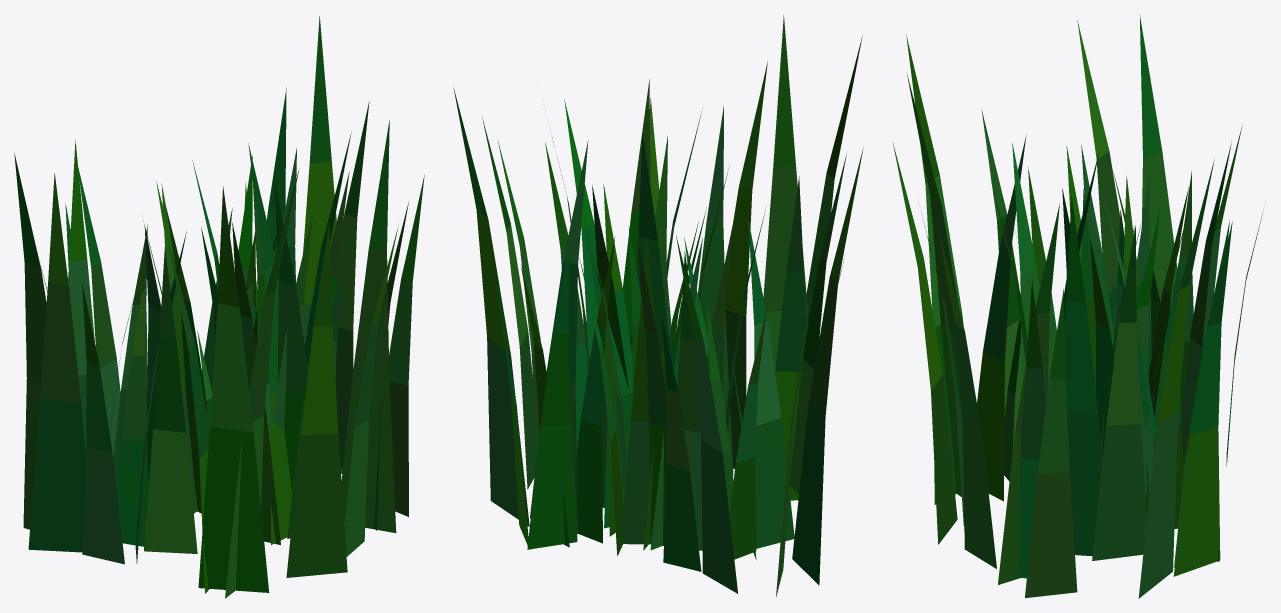
The model's file is GrassPatch01.glb.
The picture shows the model from 3 angles, left to right: view 1: azimuth 30°, elevation 25°; view 2: azimuth 150°, elevation 25°; view 3: azimuth 270°, elevation 25°; orthographic projection. The views are drawn at different scales.
Parts seen in each view (by area): view 1: GrassPatch01; view 2: GrassPatch01; view 3: GrassPatch01.
Boxes of the visible parts, left/top/right/bottom form: GrassPatch01: left=14, top=16, right=424, bottom=598; GrassPatch01: left=453, top=15, right=863, bottom=597; GrassPatch01: left=892, top=14, right=1263, bottom=598.
Bounding box in the file's own units: 0.3848 × 0.4275 × 0.3276.
